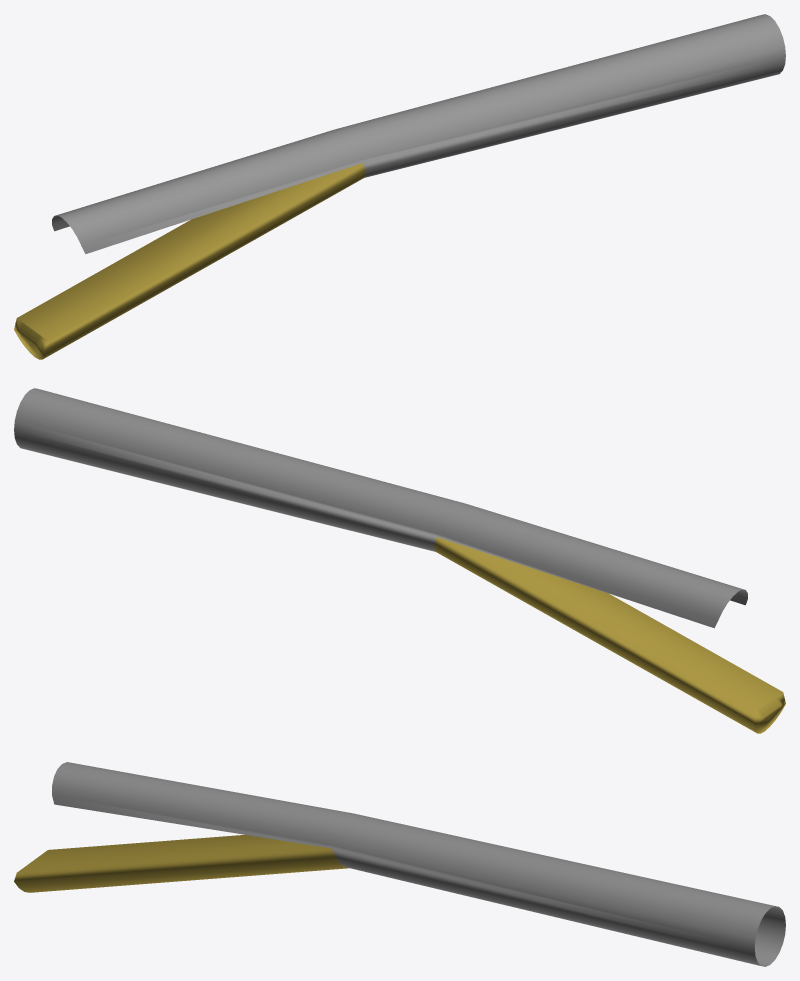
Rendered from grapa_amarilla.fbx.
3 renders of one model, top to bottom at view 1: azimuth 30°, elevation 25°; view 2: azimuth 150°, elevation 25°; view 3: azimuth 330°, elevation 25°, orthographic.
Visible parts, largest first — view 1: GRAPA1; view 2: GRAPA1; view 3: GRAPA1.
Boxes of the visible parts, x1,y1,x2,y2 form: GRAPA1: [14, 14, 785, 359]; GRAPA1: [14, 388, 785, 733]; GRAPA1: [14, 762, 785, 966].
Size of the model in its own units: 10.44 by 2.17 by 0.7597.
